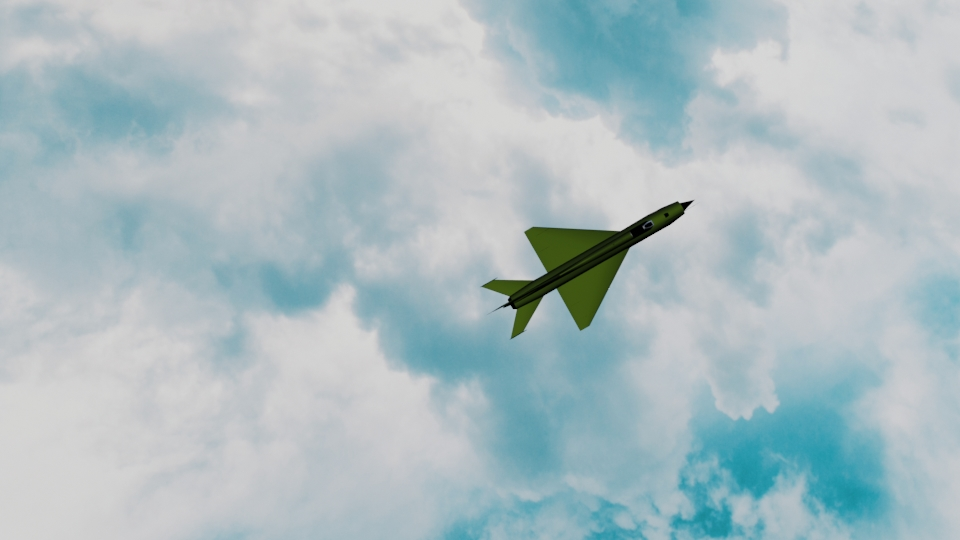plane: (482, 194, 696, 339)
